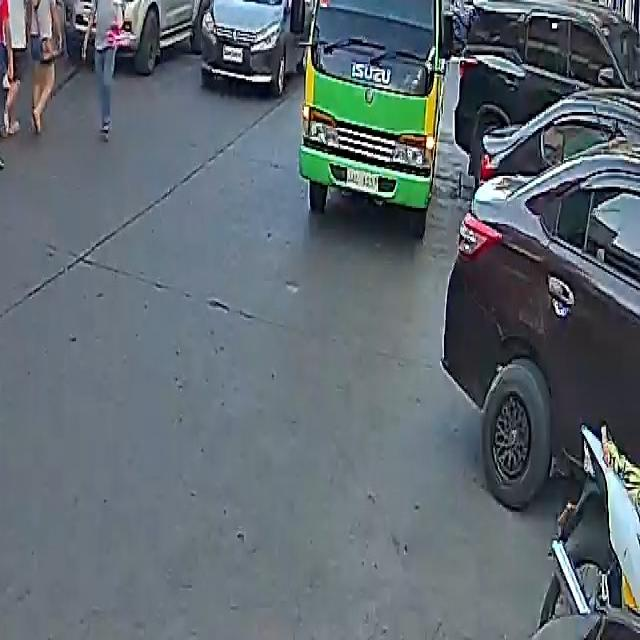car: (442, 65, 640, 528), (453, 0, 640, 181), (195, 0, 309, 92), (75, 0, 211, 69)
